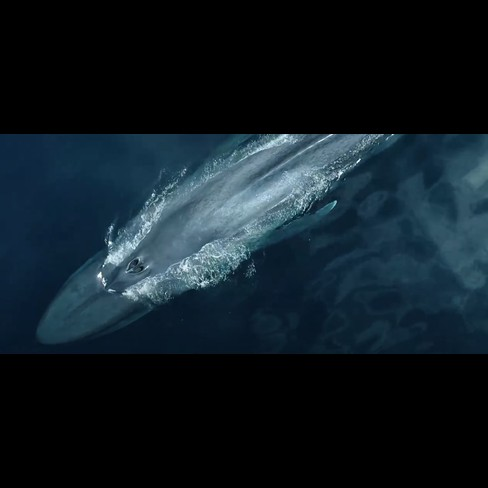bluewhale: (39, 135, 410, 348)
